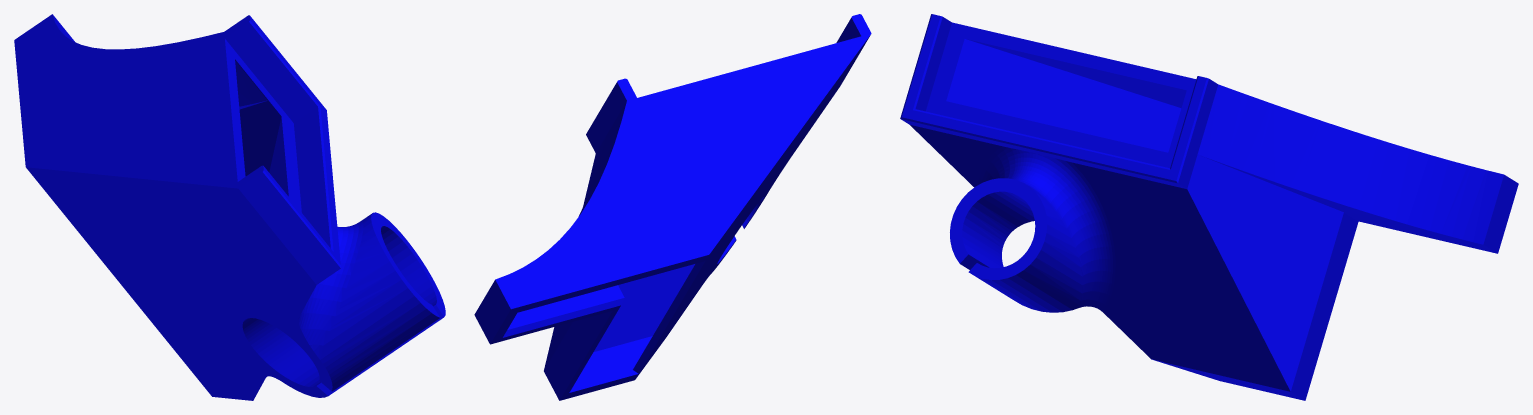
Rendered from nozzle1_4.dae.
The picture shows the model from 3 angles, left to right: view 1: azimuth 30°, elevation 25°; view 2: azimuth 150°, elevation 25°; view 3: azimuth 270°, elevation 25°; orthographic projection. The views are drawn at different scales.
Parts seen in each view (by area): view 1: scrap16; view 2: scrap16; view 3: scrap16.
Part boxes in pixels (box(x1,y1,x2,y2)): scrap16: box(14, 14, 445, 400); scrap16: box(474, 14, 871, 400); scrap16: box(900, 14, 1518, 400).
Bounding box in the file's own units: 0.0458 × 0.1215 × 0.069.
